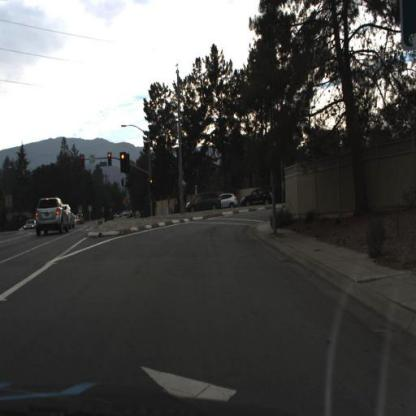car: (35, 197, 69, 236), (188, 190, 222, 215), (243, 187, 275, 210), (222, 192, 239, 210)
trafficLight: (81, 153, 86, 168)
trafficLight-Red: (121, 154, 126, 172), (108, 150, 113, 166), (149, 178, 154, 192)
